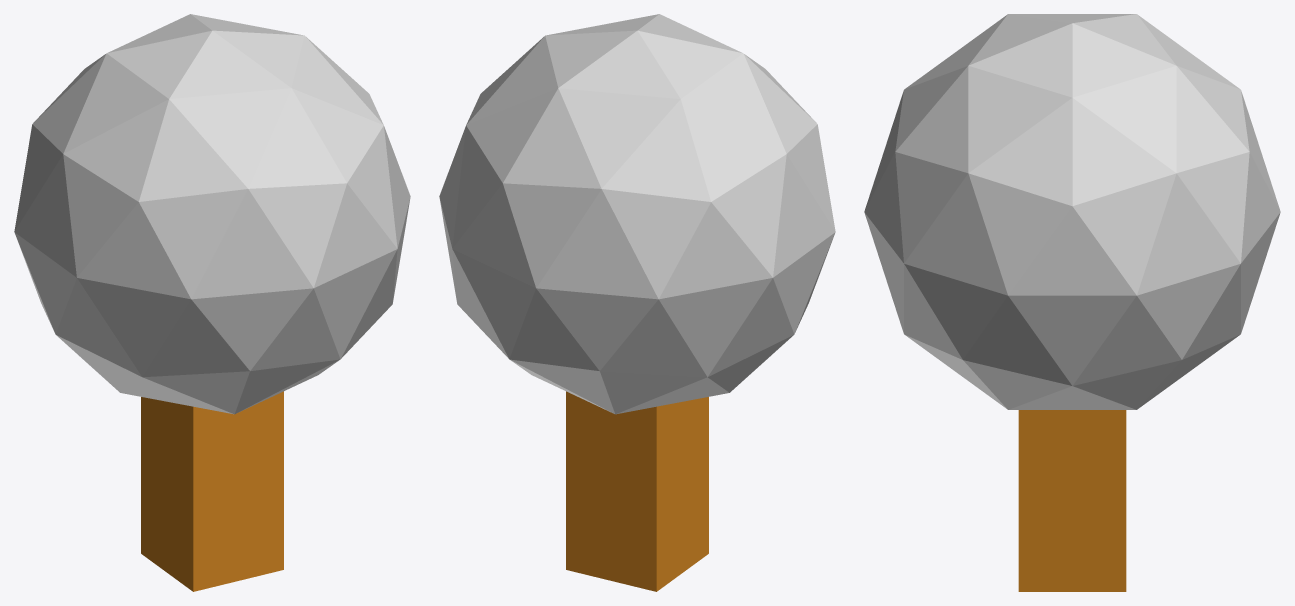
File: tree 1.fbx
3 views of the same model, side by side, from view 1: azimuth 30°, elevation 25°; view 2: azimuth 150°, elevation 25°; view 3: azimuth 270°, elevation 25° (orthographic). The views are drawn at different scales.
Parts seen in each view (by area): view 1: Cube; view 2: Cube; view 3: Cube.
Part boxes in pixels (x1=…): Cube: x1=14, y1=14, x2=410, y2=591; Cube: x1=439, y1=14, x2=835, y2=591; Cube: x1=864, y1=14, x2=1280, y2=591.
Bounding box in the file's own units: 736 × 774 × 1120.
